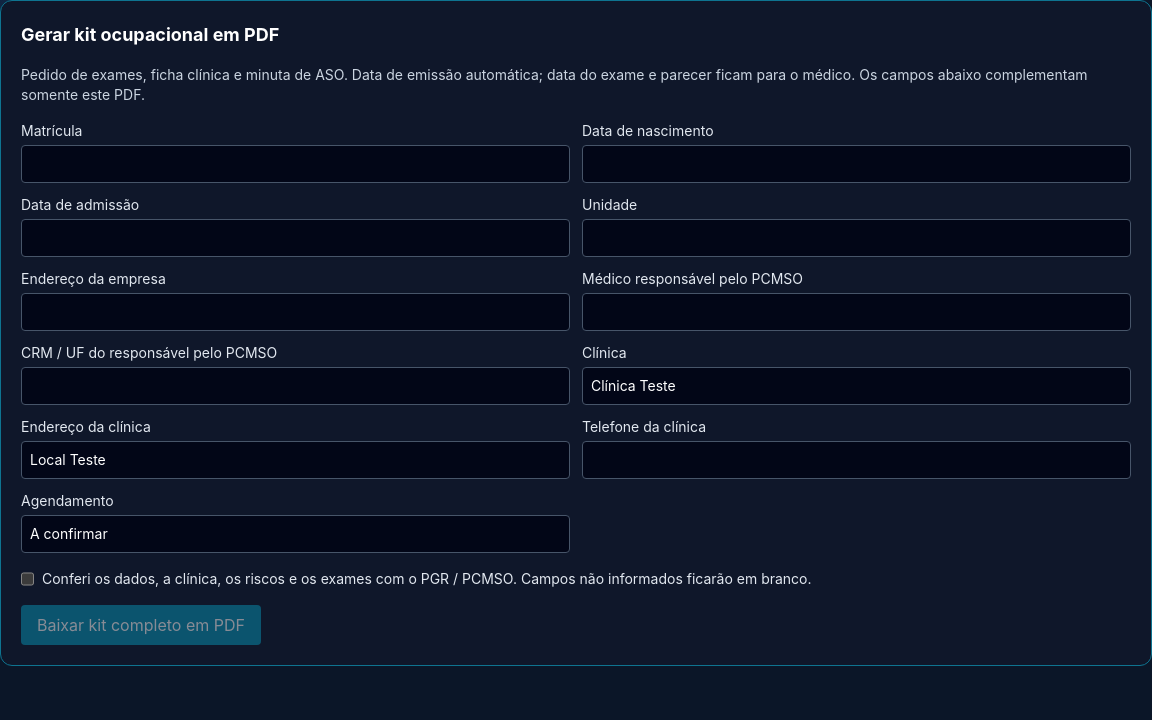
Test: Download do kit › exibe falha e permite tentar novamente
This screenshot has width=1152, height=720.
Click the checkbox at [28, 579], box [21,569,34,589]
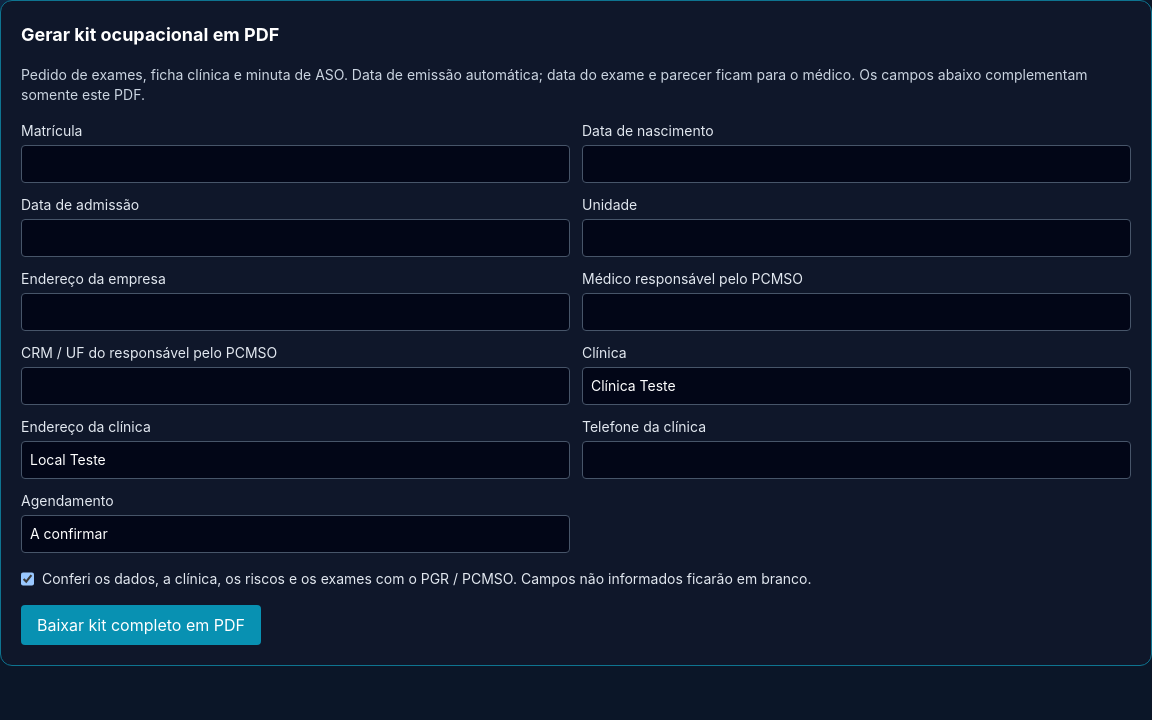
Click the button "Baixar kit completo em PDF" at [141, 625], box [21,605,261,645]
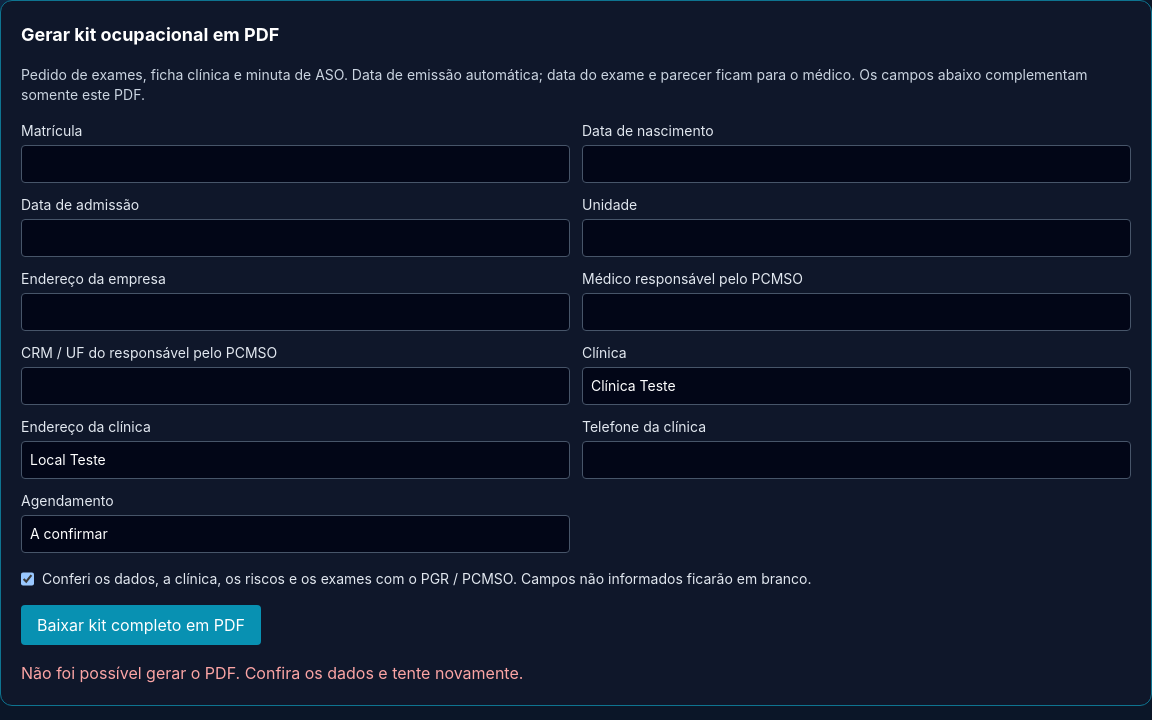
Expected: the button "Baixar kit completo em PDF" is enabled, [21,605,261,645]
Expected: the message "Não foi possível gerar o PDF. Confira os dados e tente novamente." is shown, [21,663,523,683]
